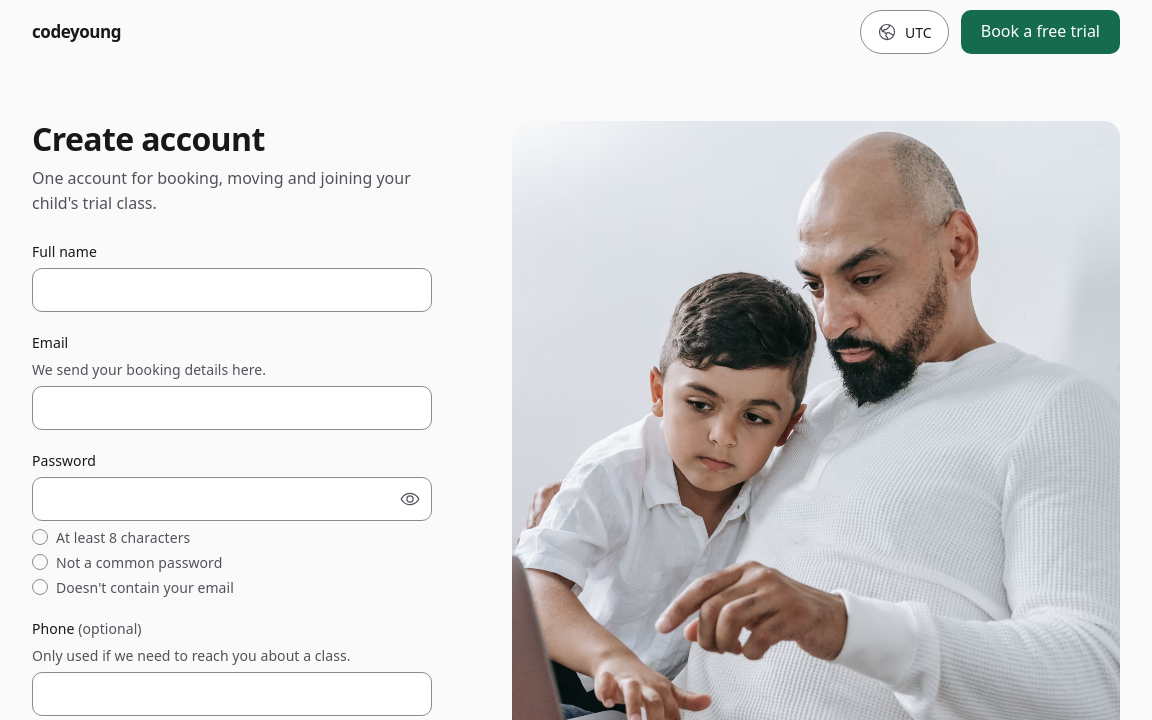
Test: create account › offers log in and reset when the email is taken, keeping the destination
expect the heading "Create account" is shown: met, box [32,117,265,160]
Type "Hannah Okafor" into the field labelled "Full name".
click(232, 290); type("Hannah Okafor")  # box [32,268,432,312]
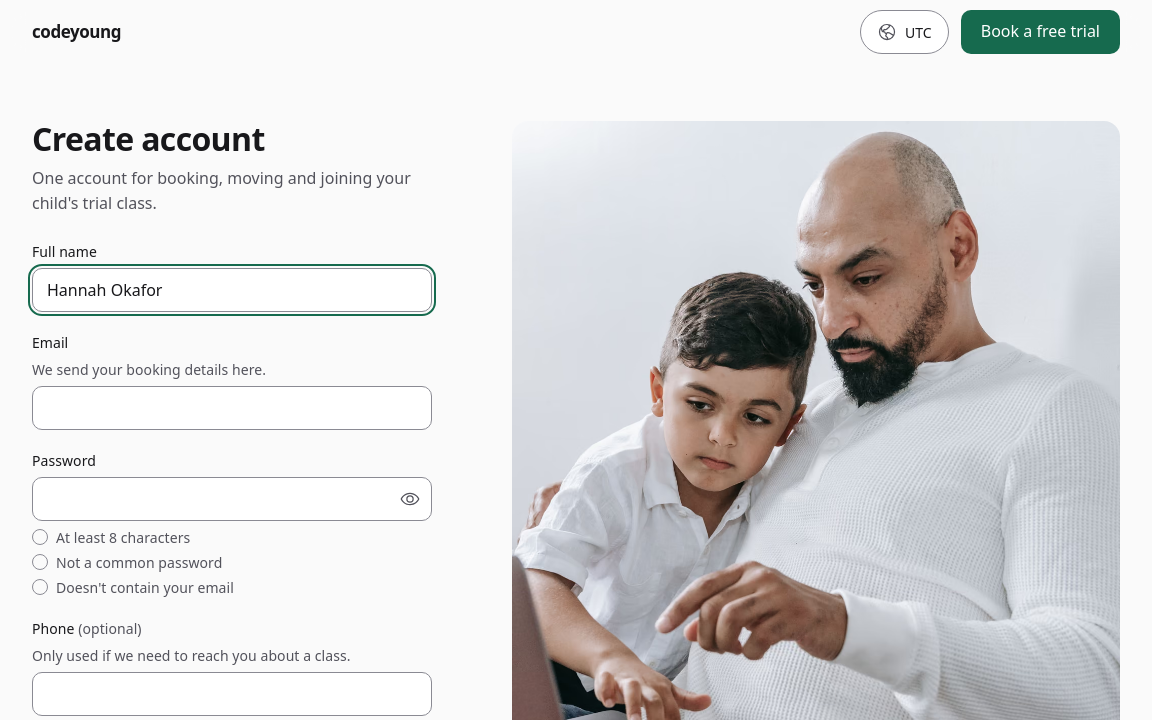
Type "hannah@okafor.co.uk" into the field labelled "Email".
click(232, 408); type("hannah@okafor.co.uk")  # box [32,386,432,430]
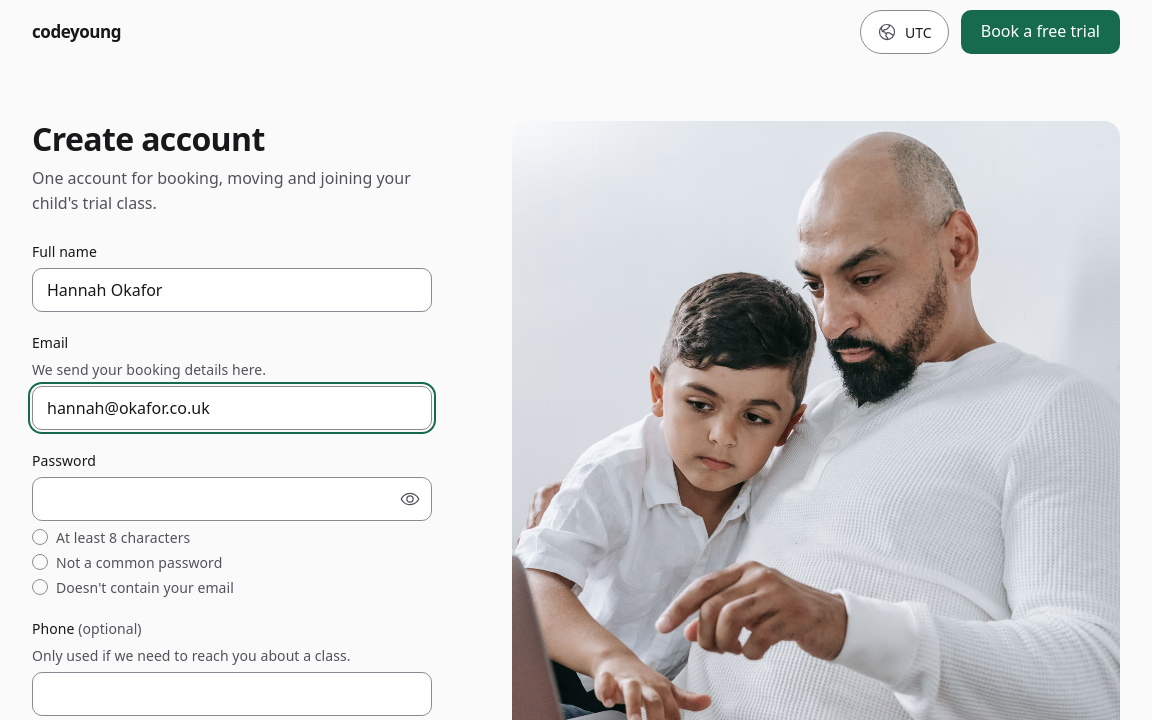
Type "sunflowers in october" into the password field labelled "Password".
click(232, 499); type("sunflowers in october")  # box [32,477,432,521]
(page scrolled)
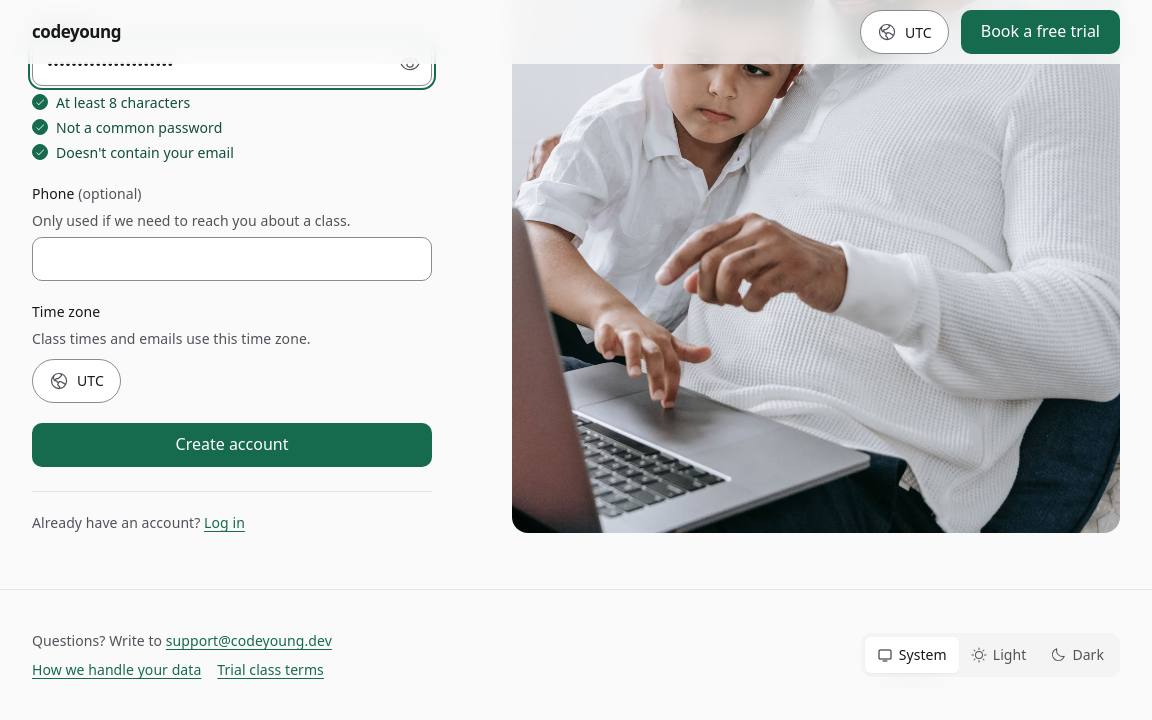
Click the button "Create account".
click(232, 445)  # box [32,423,432,467]
(page scrolled)
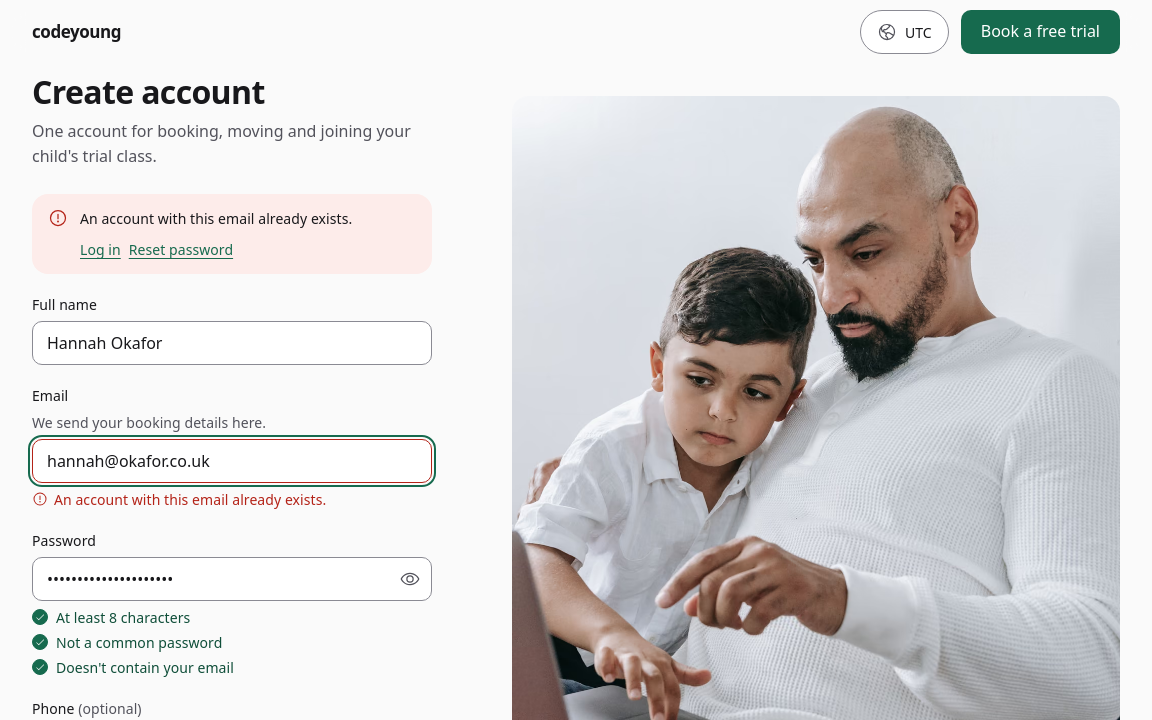
expect the message shows "An account with this email already exists.": met, box [80,209,352,228]
